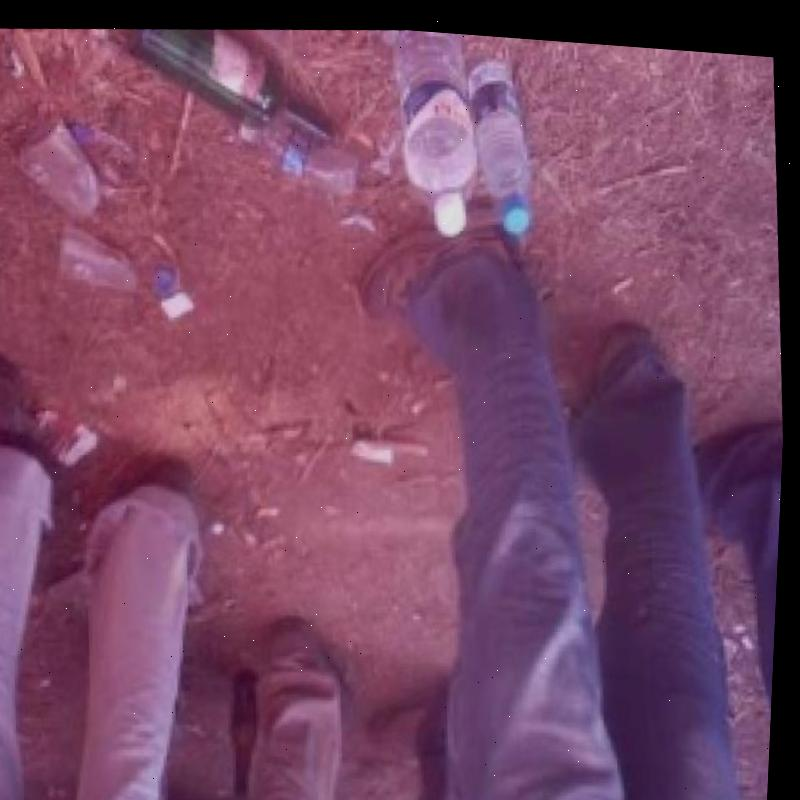botella: (385, 23, 481, 233), (465, 45, 543, 229)
